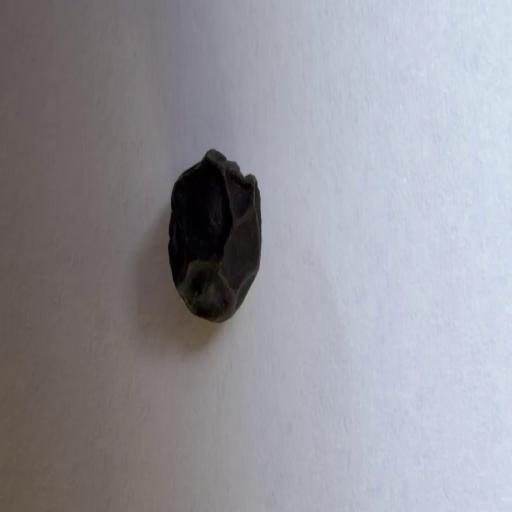Black_pepper: (148, 131, 282, 345)
